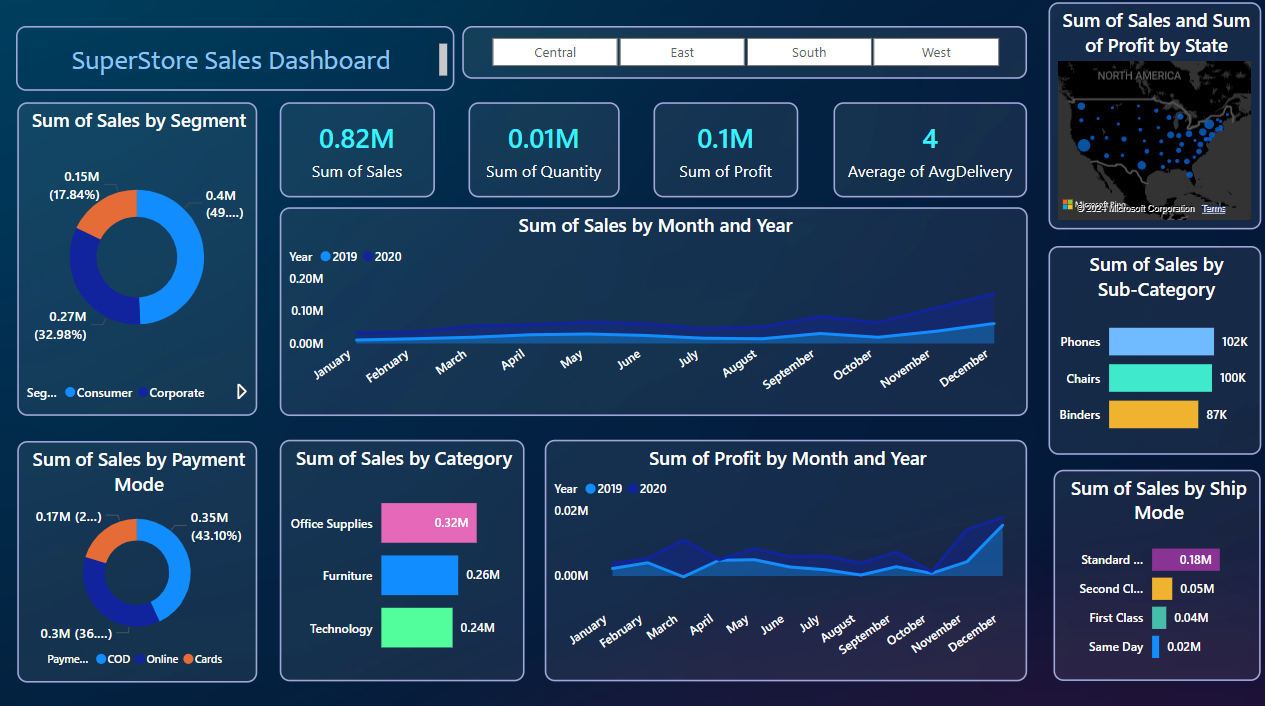

What the dashboard file says about the page in this screenshot:
{"tool":"powerbi","page":{"name":"Page 1","canvas":[1280,720],"ordinal":0},"visuals":[{"type":"clusteredBarChart","fields":{"Category":["SuperStore_Sales_Dataset.Category"],"Y":["Sum(SuperStore_Sales_Dataset.Sales)"]},"box":[288.8,448.8,245,241.2],"z":0},{"type":"clusteredBarChart","fields":{"Category":["SuperStore_Sales_Dataset.Sub-Category"],"Y":["Sum(SuperStore_Sales_Dataset.Sales)"]},"box":[1057.5,255,212.5,208.8],"z":1000},{"type":"clusteredBarChart","fields":{"Y":["Sum(SuperStore_Sales_Dataset.Sales)"],"Category":["SuperStore_Sales_Dataset.Ship Mode"]},"box":[1062.5,478.8,207.5,211.2],"z":2000},{"type":"stackedAreaChart","fields":{"Y":["Sum(SuperStore_Sales_Dataset.Sales)"],"Category":["SuperStore_Sales_Dataset.Order Date.Variation.Date Hierarchy.Month","SuperStore_Sales_Dataset.Order Date.Variation.Date Hierarchy.Day"],"Series":["SuperStore_Sales_Dataset.Order Date.Variation.Date Hierarchy.Year"]},"box":[288.3,216,748,208.7],"z":3000},{"type":"stackedAreaChart","fields":{"Category":["SuperStore_Sales_Dataset.Order Date.Variation.Date Hierarchy.Month","SuperStore_Sales_Dataset.Order Date.Variation.Date Hierarchy.Day"],"Series":["SuperStore_Sales_Dataset.Order Date.Variation.Date Hierarchy.Year"],"Y":["Sum(SuperStore_Sales_Dataset.Profit)"]},"box":[553.8,448.8,482.5,241.2],"z":4000},{"type":"map","fields":{"Category":["SuperStore_Sales_Dataset.State"],"Size":["Sum(SuperStore_Sales_Dataset.Sales)"]},"box":[1057.5,11.2,212.5,227.5],"z":5000},{"type":"donutChart","fields":{"Category":["SuperStore_Sales_Dataset.Segment"],"Y":["Sum(SuperStore_Sales_Dataset.Sales)"]},"box":[26.2,111.2,240,313.8],"z":6000},{"type":"donutChart","fields":{"Y":["Sum(SuperStore_Sales_Dataset.Sales)"],"Category":["SuperStore_Sales_Dataset.Payment Mode"]},"box":[26.2,450,240,241.2],"z":7000},{"type":"slicer","fields":{"Values":["SuperStore_Sales_Dataset.Region"]},"box":[471.2,35,565,52.5],"z":8000},{"type":"textbox","box":[25,35,438.8,65],"z":9000},{"type":"card","fields":{"Values":["Sum(SuperStore_Sales_Dataset.Sales)"]},"box":[288.8,111.2,155,95],"z":10000},{"type":"card","fields":{"Values":["Sum(SuperStore_Sales_Dataset.Quantity)"]},"box":[477.5,111.2,151.2,95],"z":11000},{"type":"card","fields":{"Values":["Sum(SuperStore_Sales_Dataset.Profit)"]},"box":[662.5,111.2,145,95],"z":12000},{"type":"card","fields":{"Values":["Avg(SuperStore_Sales_Dataset.AvgDelivery)"]},"box":[842.5,111.2,193.8,95],"z":13000}]}

Visuals, with their boxes in screenshot pixels (x1, y1, x2, y2), scaled from the page's 1280x720 canvas onto the 1265x706 screenshot:
clusteredBarChart - SuperStore_Sales_Dataset.Category x Sum(SuperStore_Sales_Dataset.Sales): <box>285,440,528,677</box>
clusteredBarChart - SuperStore_Sales_Dataset.Sub-Category x Sum(SuperStore_Sales_Dataset.Sales): <box>1045,250,1255,455</box>
clusteredBarChart - Sum(SuperStore_Sales_Dataset.Sales) x SuperStore_Sales_Dataset.Ship Mode: <box>1050,469,1255,677</box>
stackedAreaChart - Sum(SuperStore_Sales_Dataset.Sales) x SuperStore_Sales_Dataset.Order Date.Variation.Date Hierarchy.Month: <box>285,212,1024,416</box>
stackedAreaChart - SuperStore_Sales_Dataset.Order Date.Variation.Date Hierarchy.Month x SuperStore_Sales_Dataset.Order Date.Variation.Date Hierarchy.Day: <box>547,440,1024,677</box>
map - SuperStore_Sales_Dataset.State x Sum(SuperStore_Sales_Dataset.Sales): <box>1045,11,1255,234</box>
donutChart - SuperStore_Sales_Dataset.Segment x Sum(SuperStore_Sales_Dataset.Sales): <box>26,109,263,417</box>
donutChart - Sum(SuperStore_Sales_Dataset.Sales) x SuperStore_Sales_Dataset.Payment Mode: <box>26,441,263,678</box>
slicer - SuperStore_Sales_Dataset.Region: <box>466,34,1024,86</box>
textbox: <box>25,34,458,98</box>
card - Sum(SuperStore_Sales_Dataset.Sales): <box>285,109,439,202</box>
card - Sum(SuperStore_Sales_Dataset.Quantity): <box>472,109,621,202</box>
card - Sum(SuperStore_Sales_Dataset.Profit): <box>655,109,798,202</box>
card - Avg(SuperStore_Sales_Dataset.AvgDelivery): <box>833,109,1024,202</box>
